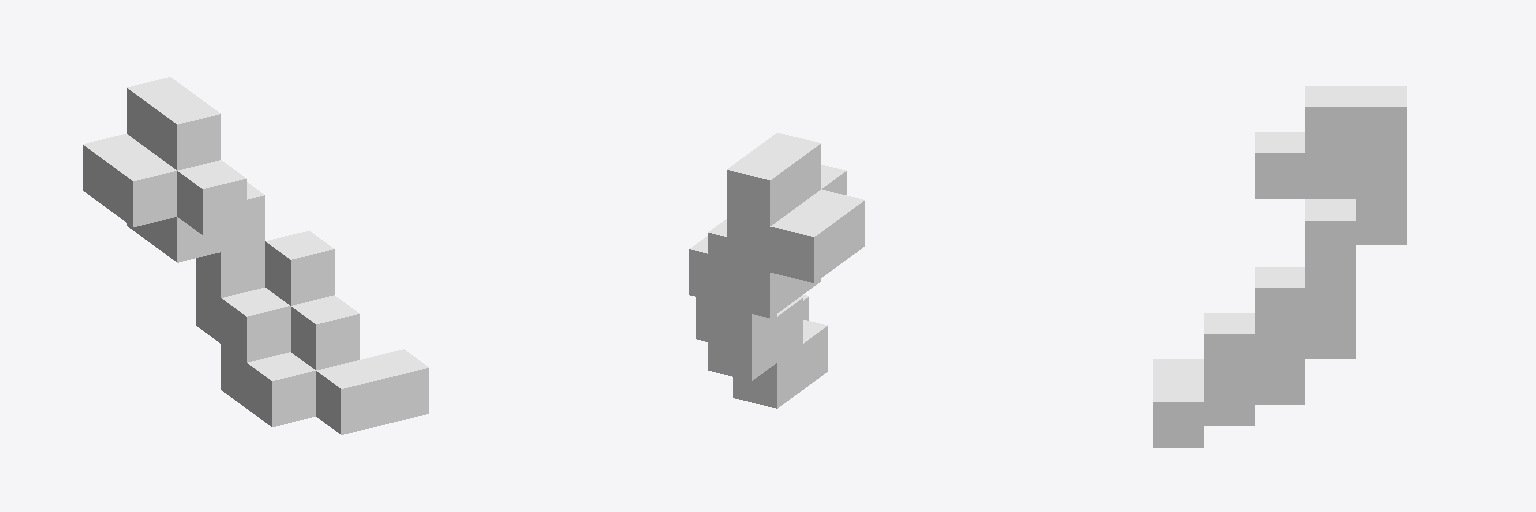
Rendered from Bunny-Bit-4-(White).obj.
The picture shows the model from 3 angles: view 1: azimuth 30°, elevation 25°; view 2: azimuth 150°, elevation 25°; view 3: azimuth 270°, elevation 25°; orthographic projection.
Parts seen in each view (by area): view 1: object 1; view 2: object 1; view 3: object 1.
Boxes of the visible parts, <box> form: object 1: <box>83,77,428,434</box>; object 1: <box>689,133,864,408</box>; object 1: <box>1153,86,1406,447</box>.
Size of the model in its own units: 0.5 by 0.6 by 0.5.